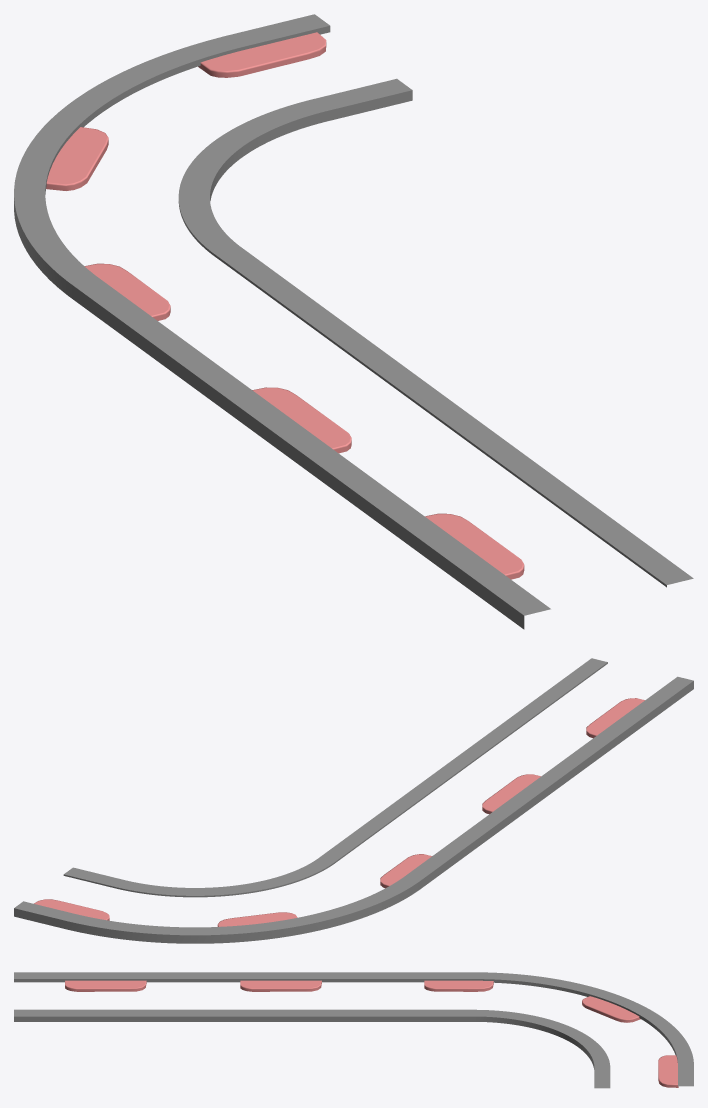
The model's file is CHN_OuterPath_Sidewalk_02.gltf.
3 views of the same model, one above another, from view 1: azimuth 30°, elevation 25°; view 2: azimuth 150°, elevation 25°; view 3: azimuth 270°, elevation 25° (orthographic). The views are drawn at different scales.
Visible parts, largest first — view 1: CHN_OuterPath_Sidewalk_02; view 2: CHN_OuterPath_Sidewalk_02; view 3: CHN_OuterPath_Sidewalk_02.
Part boxes in pixels (box(x1,y1,x2,y2)): CHN_OuterPath_Sidewalk_02: box(14, 14, 693, 629); CHN_OuterPath_Sidewalk_02: box(14, 658, 693, 943); CHN_OuterPath_Sidewalk_02: box(14, 972, 693, 1088).
Size of the model in its own units: 24.73 by 0.7548 by 62.37.
